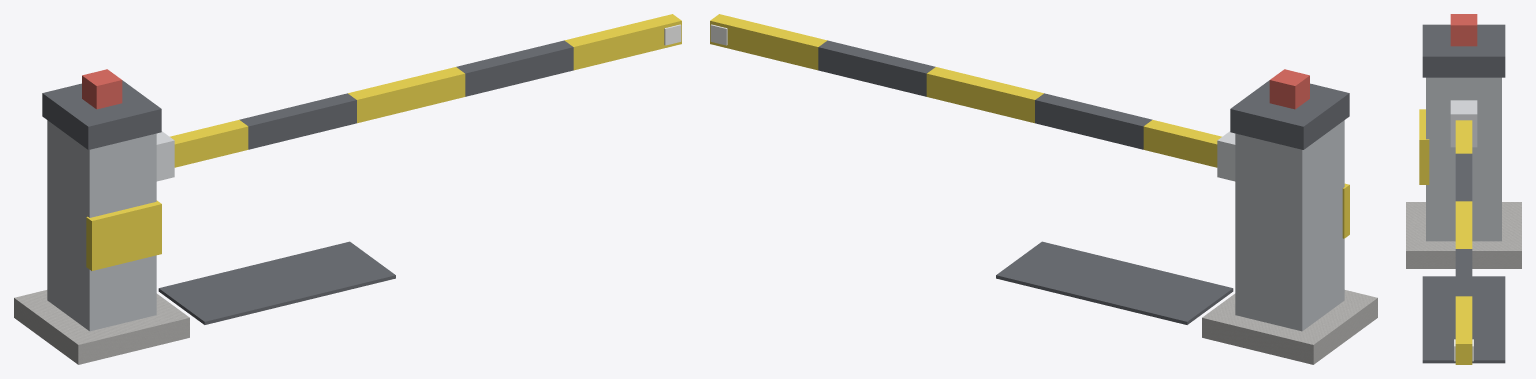
The model's file is ferry-terminal-and-harbour-crossing-ferry-terminal-and-dba29ac9__35638.glb.
The picture shows the model from 3 angles, left to right: view 1: azimuth 30°, elevation 25°; view 2: azimuth 150°, elevation 25°; view 3: azimuth 270°, elevation 25°; orthographic projection. The views are drawn at different scales.
Visible parts, largest first — view 1: ferry-terminal-and-harbour-crossing-boarding-barrier-arm, barrier-arm/yellow (×3), barrier-arm/charcoal (×2), barrier-arm/steel; view 2: ferry-terminal-and-harbour-crossing-boarding-barrier-arm, barrier-arm/yellow (×3), barrier-arm/charcoal (×2), barrier-arm/steel; view 3: ferry-terminal-and-harbour-crossing-boarding-barrier-arm, barrier-arm/yellow (×3), barrier-arm/charcoal (×2), barrier-arm/steel.
Part boxes in pixels (<box>): ferry-terminal-and-harbour-crossing-boarding-barrier-arm: <box>14,69,395,364</box>; barrier-arm/yellow (×3): <box>170,14,681,167</box>; barrier-arm/charcoal (×2): <box>239,40,573,149</box>; barrier-arm/steel: <box>156,131,174,181</box>; ferry-terminal-and-harbour-crossing-boarding-barrier-arm: <box>996,69,1377,364</box>; barrier-arm/yellow (×3): <box>710,14,1221,167</box>; barrier-arm/charcoal (×2): <box>818,40,1152,149</box>; barrier-arm/steel: <box>1217,131,1235,181</box>; ferry-terminal-and-harbour-crossing-boarding-barrier-arm: <box>1406,14,1521,363</box>; barrier-arm/yellow (×3): <box>1455,120,1472,364</box>; barrier-arm/charcoal (×2): <box>1455,153,1472,296</box>; barrier-arm/steel: <box>1450,100,1477,147</box>.
Size of the model in its own units: 3.96 by 1.5 by 0.7.
Materials: 7 (1 with a texture image).
